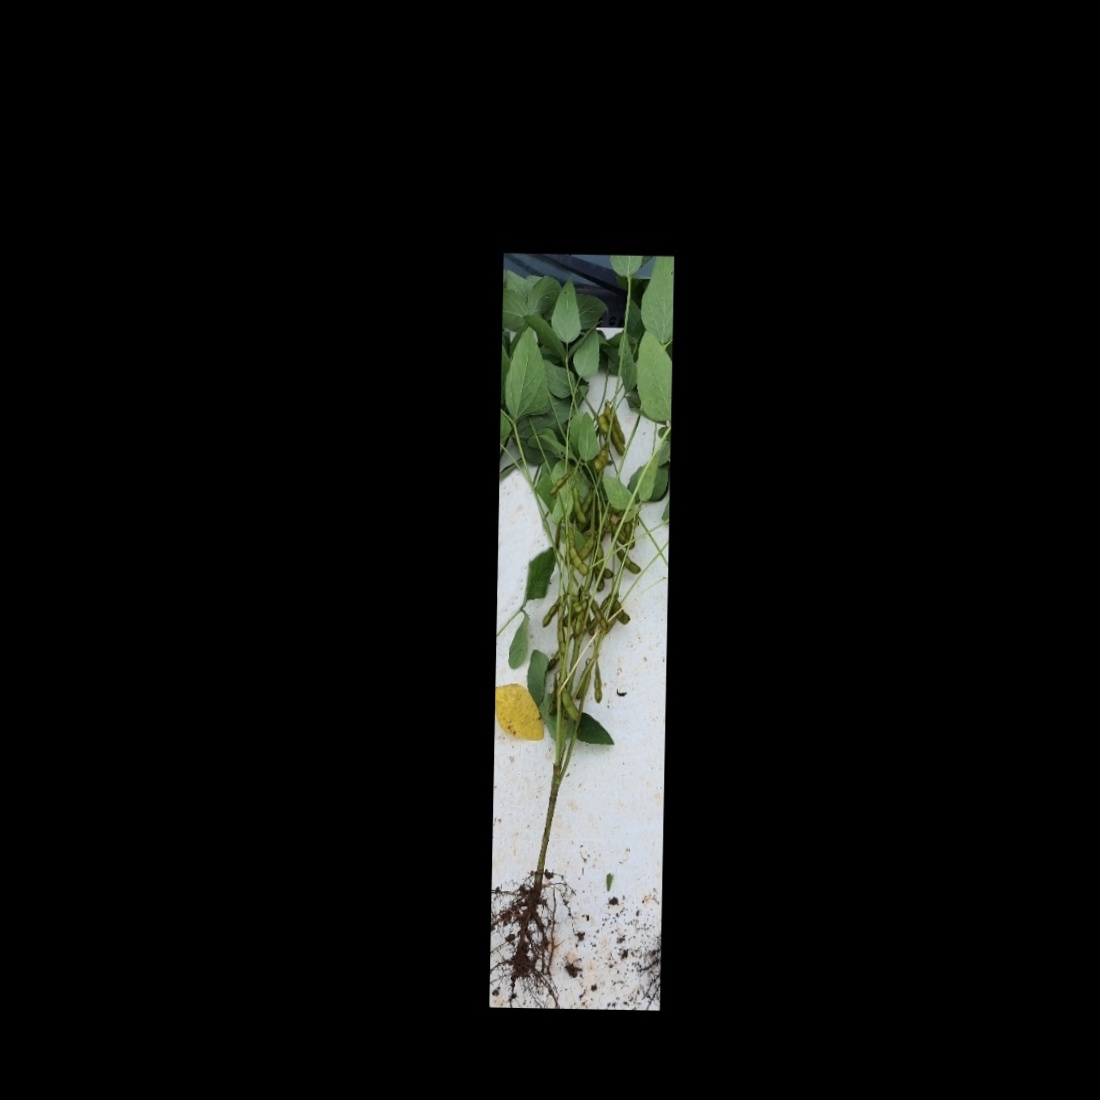pod: (536, 596, 563, 632), (614, 544, 643, 577), (570, 486, 589, 526), (591, 663, 609, 704), (546, 469, 574, 496), (568, 546, 591, 577), (590, 597, 609, 629), (591, 444, 608, 474), (609, 430, 626, 458), (545, 652, 561, 675), (596, 411, 610, 434)
soy: (498, 274, 665, 980)
